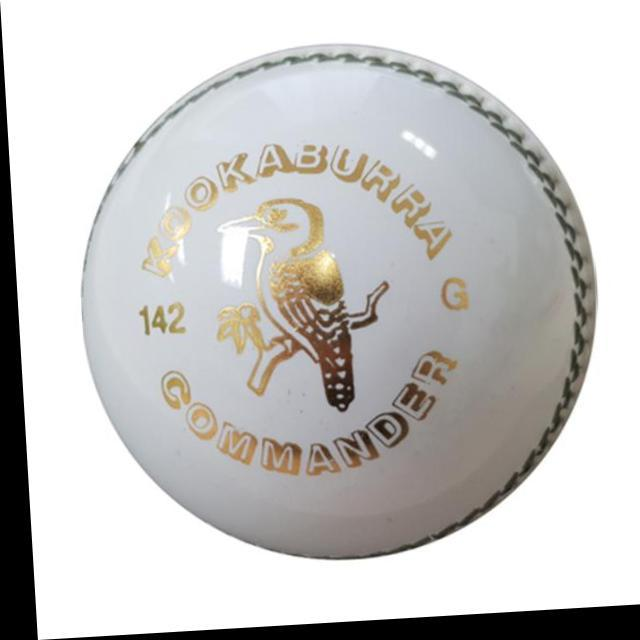cricket ball: (77, 49, 593, 564)
